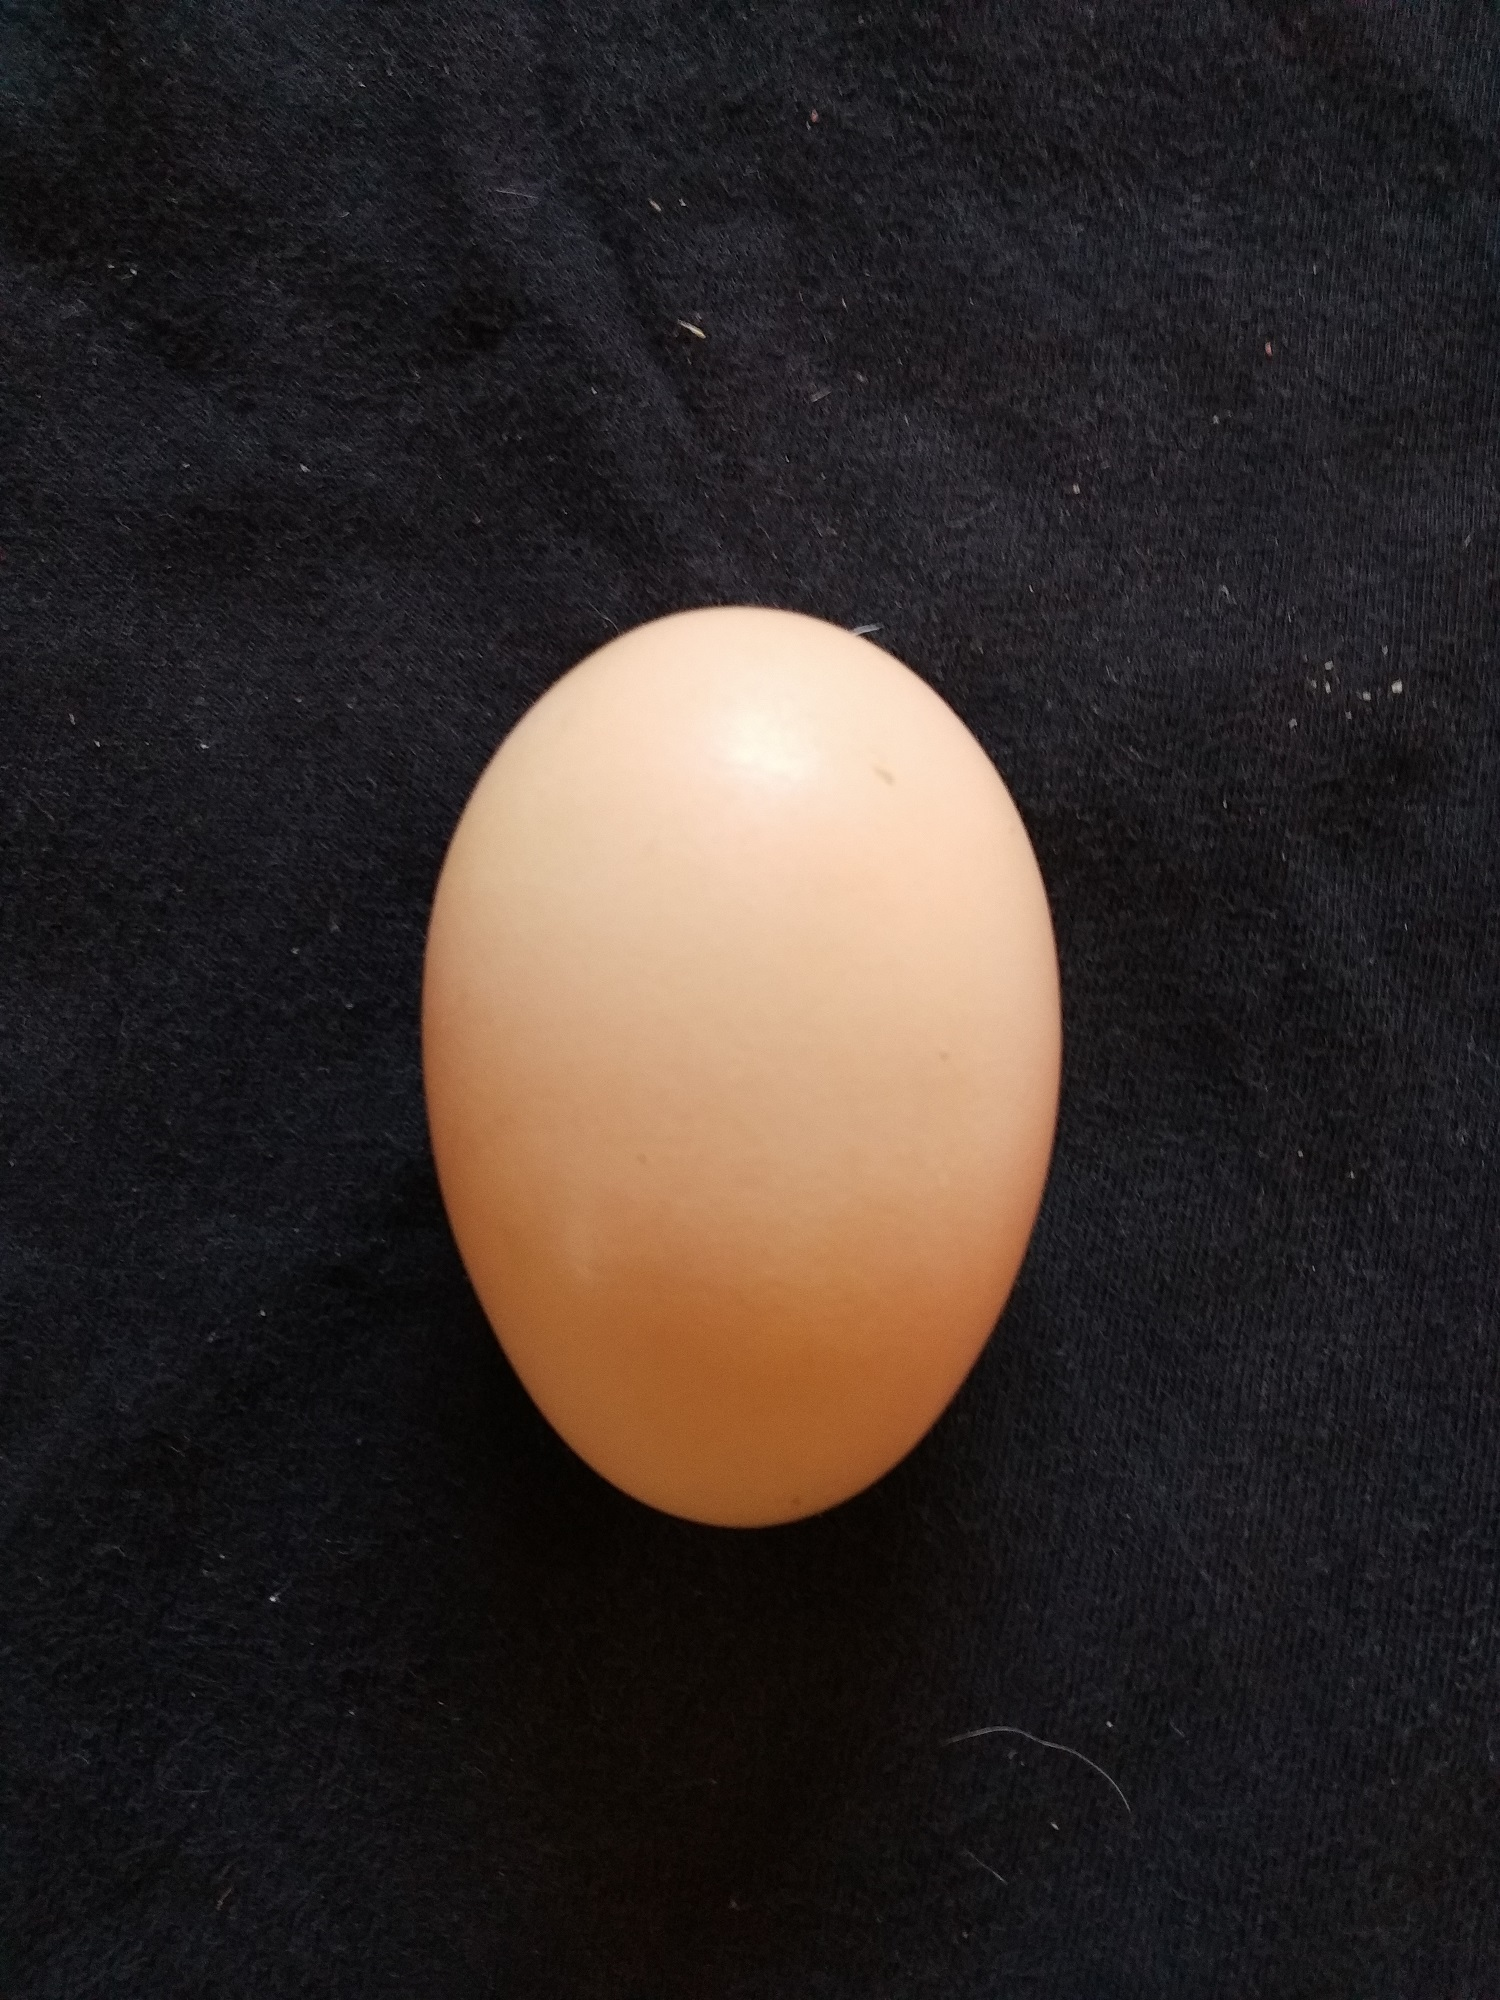Male: (414, 600, 1067, 1540)
